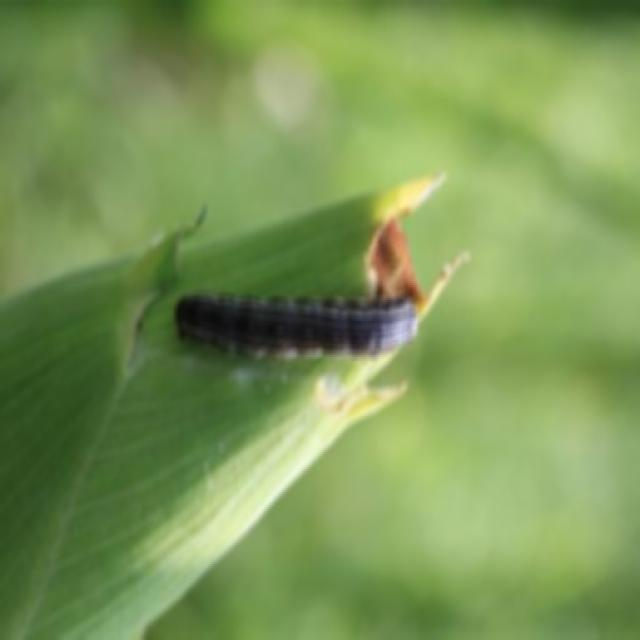army worm: (174, 289, 422, 351)
